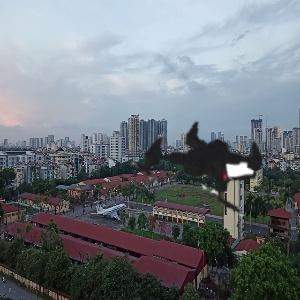drone: (104, 76, 299, 271)
